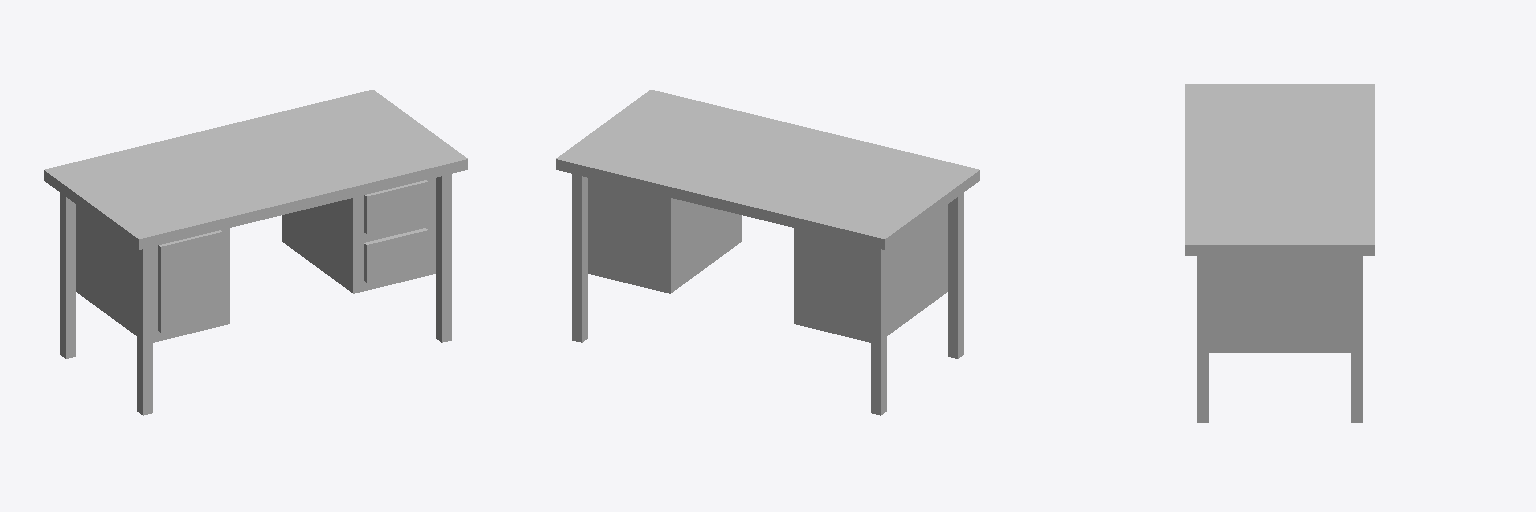
Rendered from work_table.obj.
3 renders of one model, left to right at view 1: azimuth 30°, elevation 25°; view 2: azimuth 150°, elevation 25°; view 3: azimuth 270°, elevation 25°, orthographic.
Parts seen in each view (by area): view 1: Top, Left, Cabinet Door, Front Right Leg, Front Left Leg, Bottom Drawer, Top Drawer, Back Left Leg, Right, Bottom, Back; view 2: Top, Back, Left, Back Right Leg, Back Left Leg, Front Left Leg; view 3: Top, Right, Front Right Leg, Back Right Leg, Back.
Part boxes in pixels (left/top/right/bottom): Top: left=44, top=90, right=467, bottom=249; Left: left=82, top=195, right=363, bottom=342; Cabinet Door: left=158, top=230, right=222, bottom=332; Front Right Leg: left=436, top=174, right=451, bottom=342; Front Left Leg: left=137, top=247, right=152, bottom=415; Bottom Drawer: left=364, top=228, right=428, bottom=282; Top Drawer: left=364, top=180, right=428, bottom=233; Back Left Leg: left=60, top=193, right=75, bottom=358; Right: left=220, top=178, right=435, bottom=325; Bottom: left=158, top=269, right=425, bottom=341; Back: left=76, top=205, right=287, bottom=295; Top: left=556, top=90, right=979, bottom=249; Back: left=588, top=178, right=870, bottom=342; Left: left=676, top=199, right=947, bottom=335; Back Right Leg: left=572, top=174, right=587, bottom=342; Back Left Leg: left=871, top=247, right=886, bottom=415; Front Left Leg: left=948, top=193, right=963, bottom=358; Top: left=1185, top=84, right=1374, bottom=255; Right: left=1209, top=256, right=1338, bottom=352; Front Right Leg: left=1197, top=256, right=1208, bottom=422; Back Right Leg: left=1351, top=256, right=1362, bottom=422; Back: left=1339, top=256, right=1350, bottom=352.
Size of the model in its own units: 2 by 1.06 by 1.